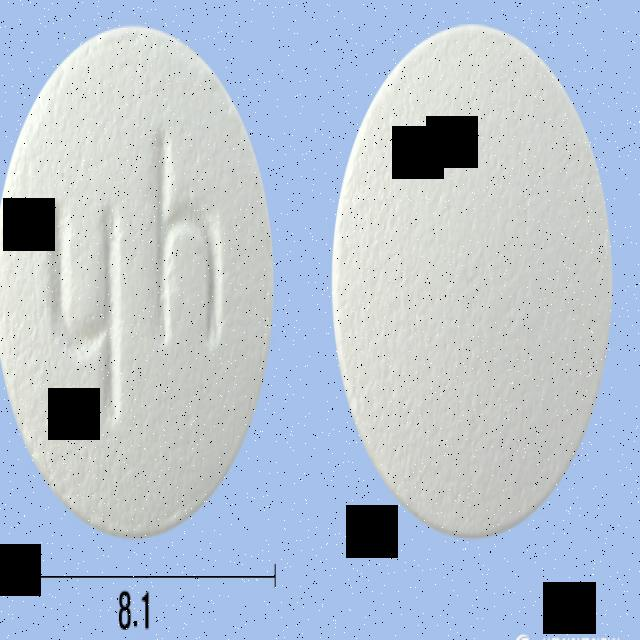Levomicin: (0, 23, 277, 536)
